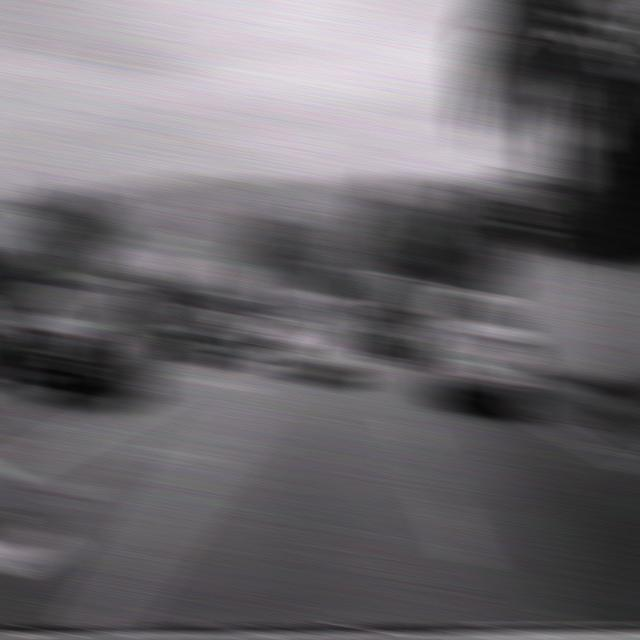speedLimit35: (501, 168, 550, 237)
